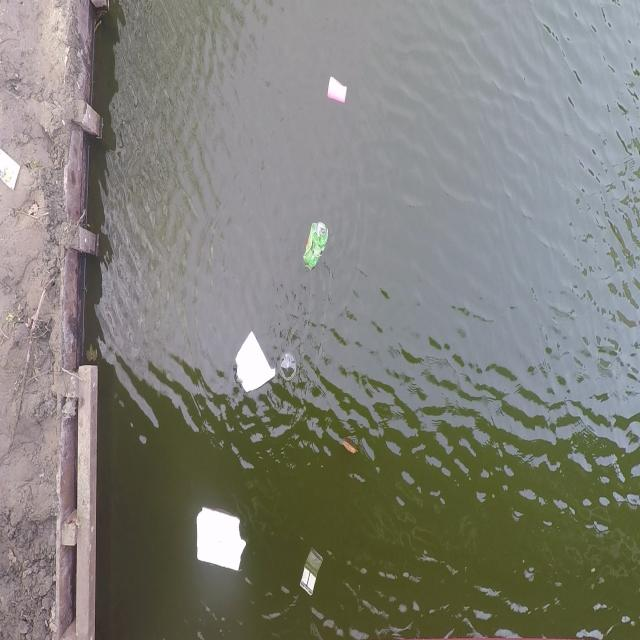Autre plastique: (298, 544, 326, 603), (279, 350, 299, 386)
Sac plastique: (300, 210, 332, 282)
